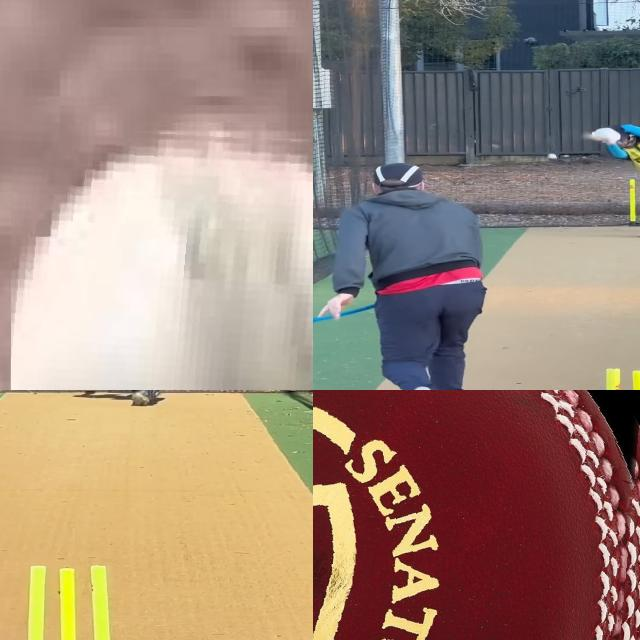Cricket ball: (313, 390, 640, 640), (10, 126, 313, 390), (546, 153, 560, 160)
Stumps: (5, 563, 135, 640)
